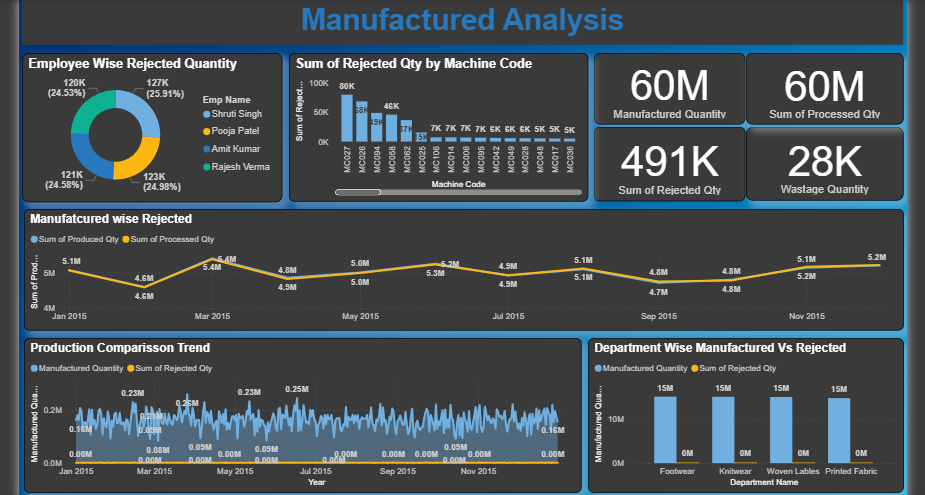

This screenshot's page, from the dashboard's own definition file:
{"tool":"powerbi","page":{"name":"Page 1","canvas":[1280,720],"ordinal":0},"visuals":[{"type":"card","fields":{"Values":["Sheet1.Manufactured Quantity"]},"box":[827.6,77.2,218.4,102.5],"z":0},{"type":"card","fields":{"Values":["Sum(Sheet1.Rejected Qty)"]},"box":[827.6,184.6,218.4,107.4],"z":1000},{"type":"card","fields":{"Values":["Sheet1.Wastage Quantity"]},"box":[1047.2,184.6,226.8,106.2],"z":2000},{"type":"card","fields":{"Values":["Sum(Sheet1.Processed Qty)"]},"box":[1047.2,77.2,226.8,102.5],"z":3000},{"type":"donutChart","title":"Employee Wise Rejected Quantity ","fields":{"Category":["Sheet1.Emp Name"],"Y":["Sum(Sheet1.Rejected Qty)"]},"box":[4.8,77.2,375.2,214.7],"z":4000},{"type":"clusteredColumnChart","fields":{"Category":["Sheet1.Machine Code"],"Y":["Sum(Sheet1.Rejected Qty)"]},"box":[388.5,77.2,430.7,213.5],"z":5000},{"type":"lineChart","title":"Manufatcured wise Rejected","fields":{"Category":["Sheet1.Doc Date.Variation.Date Hierarchy.Year","Sheet1.Doc Date.Variation.Date Hierarchy.Month","Sheet1.Doc Date.Variation.Date Hierarchy.Day"],"Y":["Sum(Sheet1.Produced Qty)","Sum(Sheet1.Processed Qty)"]},"box":[7.2,302.8,1266.8,174.9],"z":6000},{"type":"areaChart","title":"Production Comparisson Trend ","fields":{"Category":["Sheet1.Doc Date.Variation.Date Hierarchy.Year","Sheet1.Doc Date.Variation.Date Hierarchy.Quarter","Sheet1.Doc Date.Variation.Date Hierarchy.Month","Sheet1.Doc Date.Variation.Date Hierarchy.Day"],"Y":["Sheet1.Manufactured Quantity","Sum(Sheet1.Rejected Qty)"]},"box":[7.2,488.6,803.5,223.2],"z":7000},{"type":"clusteredColumnChart","title":"Department Wise Manufactured Vs Rejected","fields":{"Category":["Sheet1.Department Name"],"Y":["Sheet1.Manufactured Quantity","Sum(Sheet1.Rejected Qty)"]},"box":[819.2,488.6,454.8,223.2],"z":8000},{"type":"textbox","box":[4.9,0,1269.3,66],"z":9000}]}

Visuals, with their boxes in screenshot pixels (x1, y1, x2, y2):
card - Sheet1.Manufactured Quantity: pyautogui.locateOnScreen(592, 49, 746, 121)
card - Sum(Sheet1.Rejected Qty): pyautogui.locateOnScreen(592, 125, 746, 200)
card - Sheet1.Wastage Quantity: pyautogui.locateOnScreen(746, 125, 905, 199)
card - Sum(Sheet1.Processed Qty): pyautogui.locateOnScreen(746, 49, 905, 121)
"Employee Wise Rejected Quantity " donutChart: pyautogui.locateOnScreen(15, 49, 279, 200)
clusteredColumnChart - Sheet1.Machine Code x Sum(Sheet1.Rejected Qty): pyautogui.locateOnScreen(284, 49, 586, 199)
"Manufatcured wise Rejected" lineChart: pyautogui.locateOnScreen(17, 208, 905, 330)
"Production Comparisson Trend " areaChart: pyautogui.locateOnScreen(17, 338, 581, 494)
"Department Wise Manufactured Vs Rejected" clusteredColumnChart: pyautogui.locateOnScreen(586, 338, 905, 494)
textbox: pyautogui.locateOnScreen(15, 0, 906, 41)
